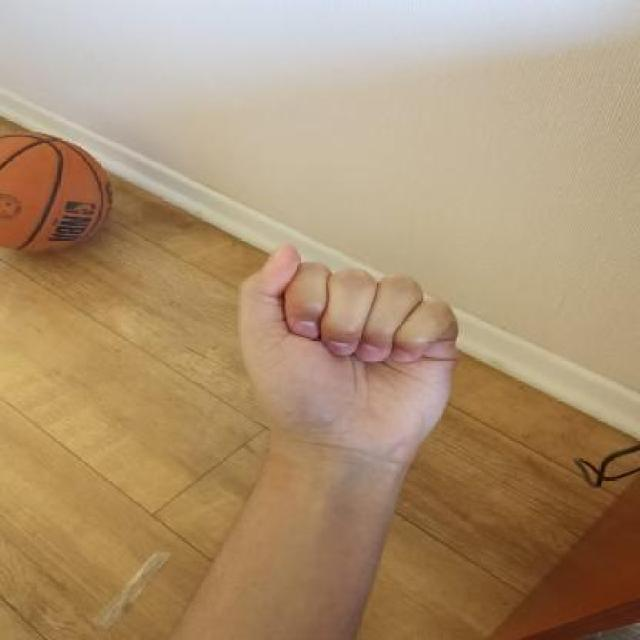A: (232, 238, 473, 462)
